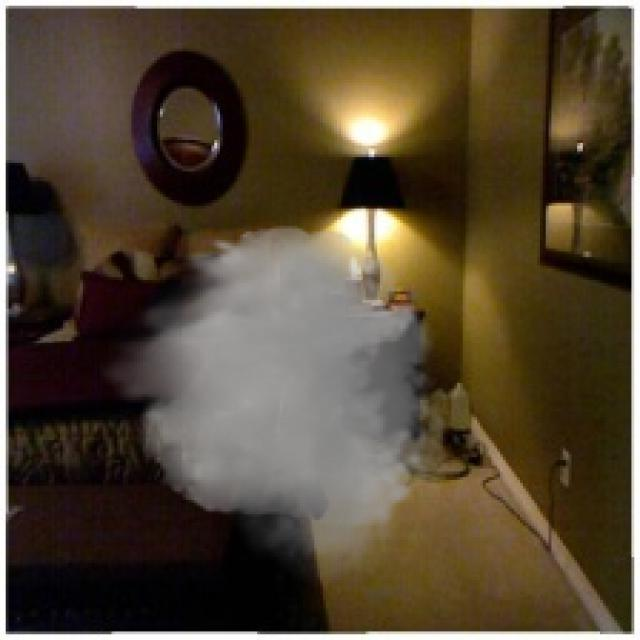smoke: (94, 217, 463, 586)
